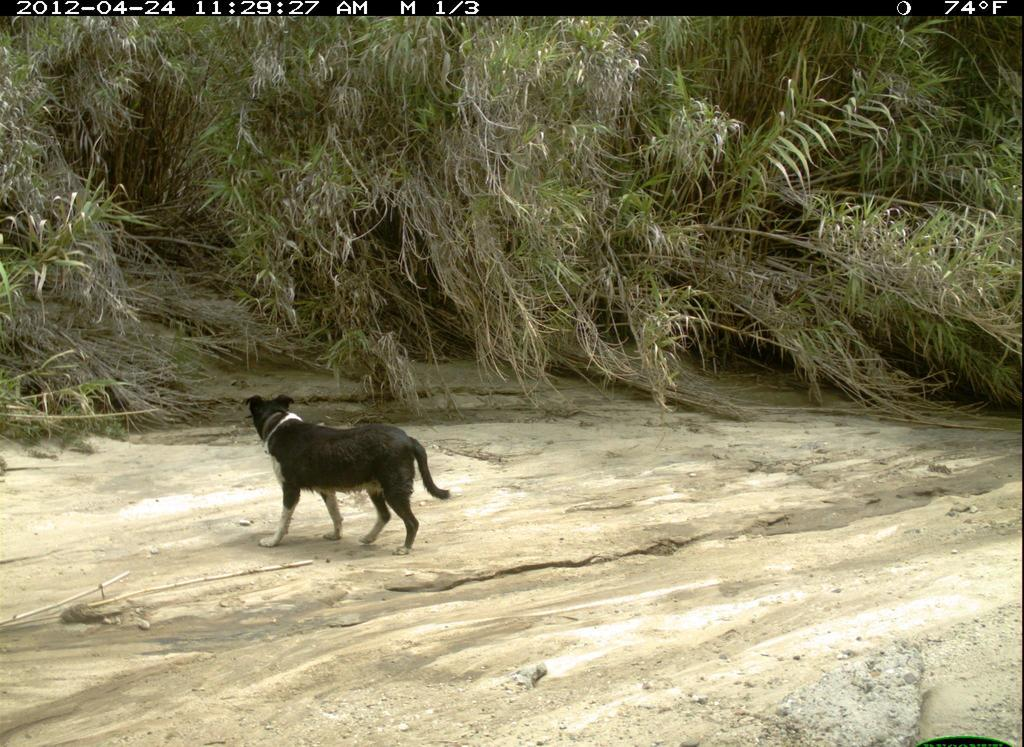dog: (240, 381, 461, 568)
